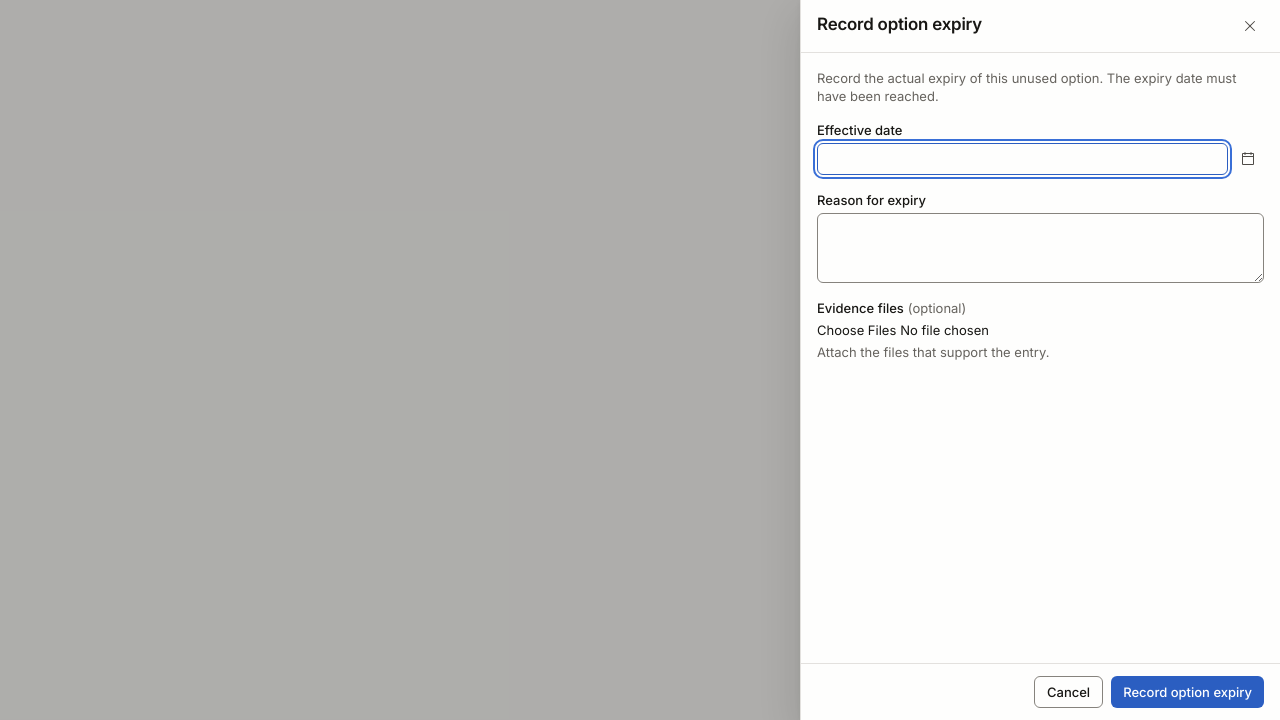
Scenario: keeps expiry inputs on a stale-stream refusal and sends no request without a reason
This screenshot has width=1280, height=720.
Step 1. Click the button "Record option expiry" → [1188, 692], box x1=1111 y1=676 x2=1264 y2=708
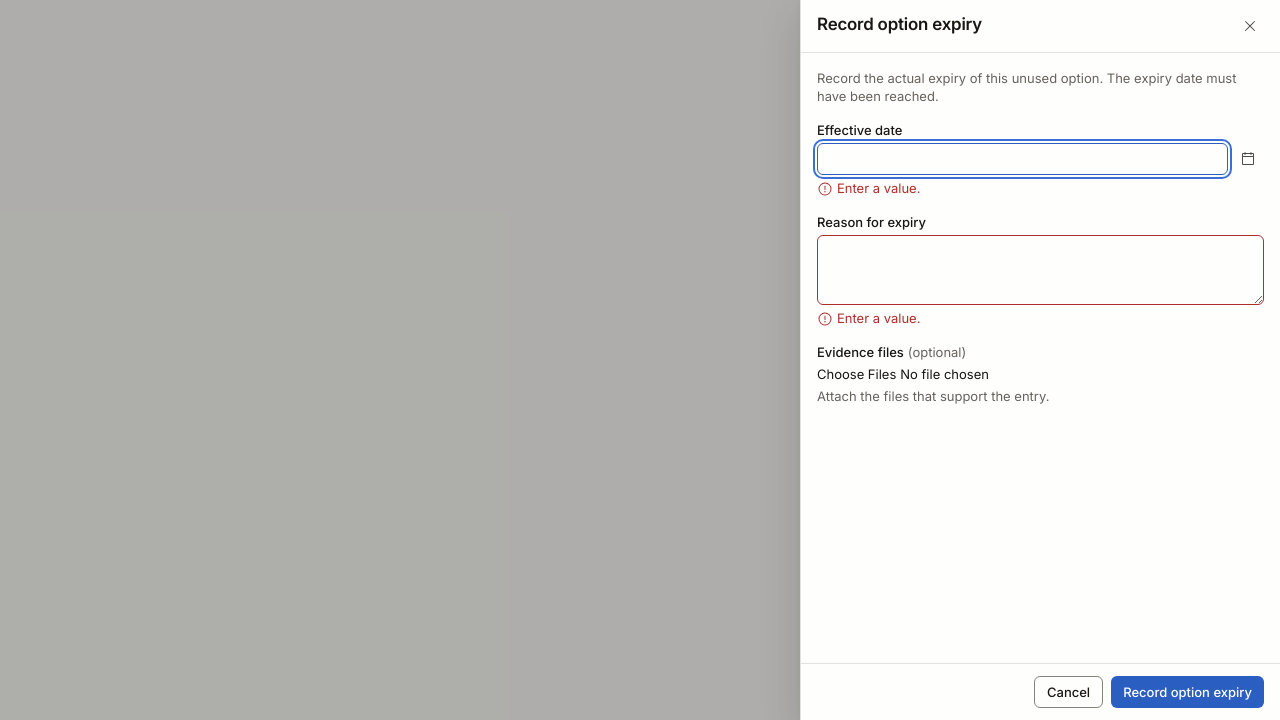
Step 2. Type "2026-09-12" into the field labelled "Effective date" → [1022, 159], box x1=817 y1=143 x2=1228 y2=175
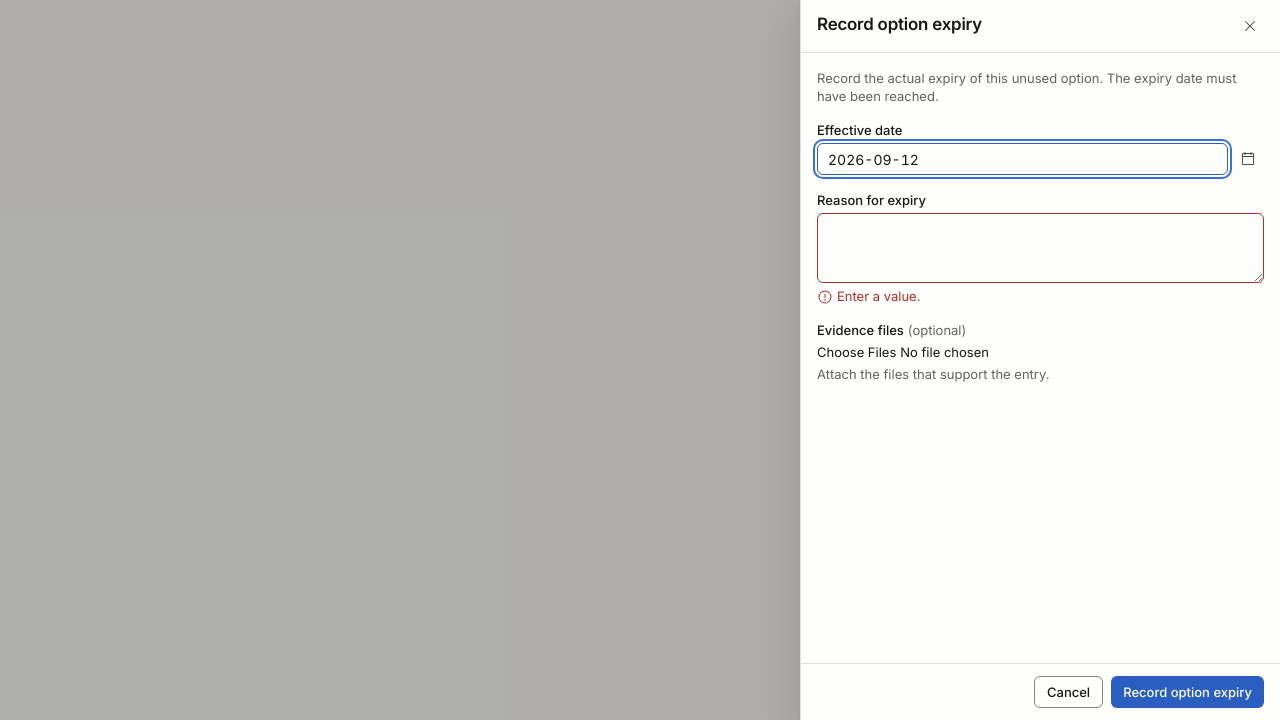
Step 3. Type "Unused option expired." into the text box labelled "Reason for expiry" → [1040, 248], box x1=817 y1=213 x2=1264 y2=283
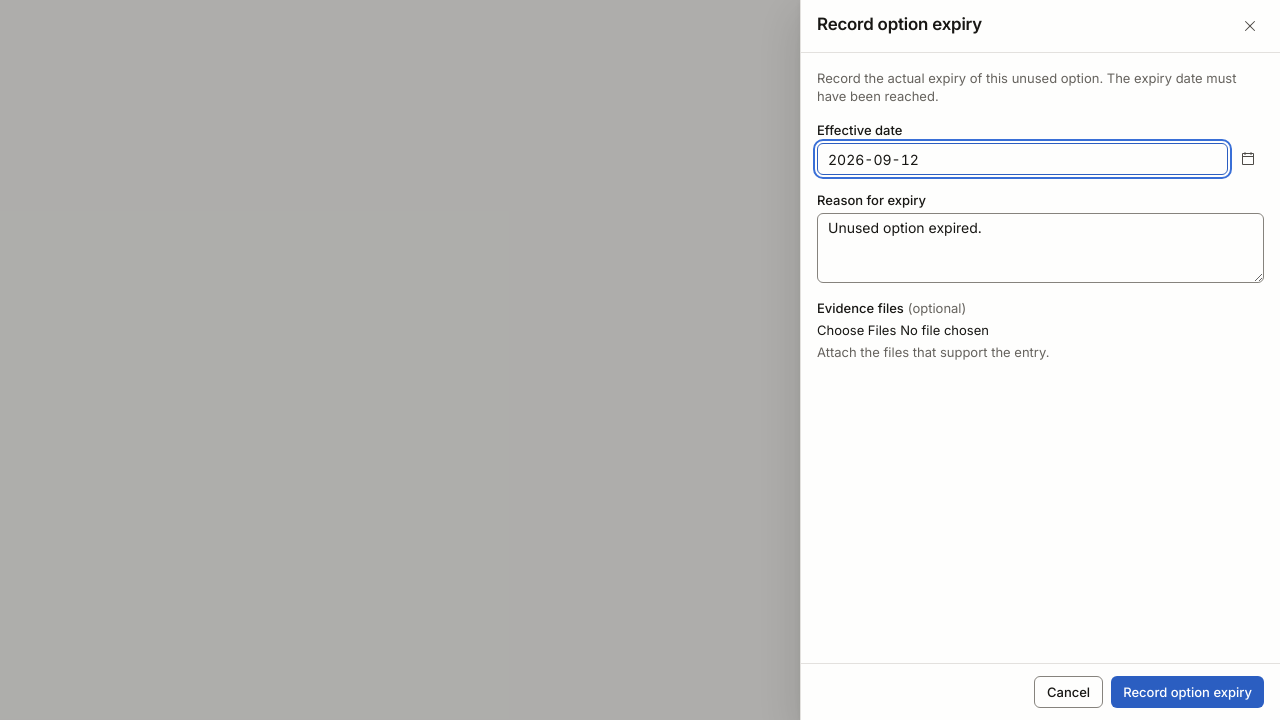
Step 4. Click the button "Record option expiry" → [1188, 692], box x1=1111 y1=676 x2=1264 y2=708
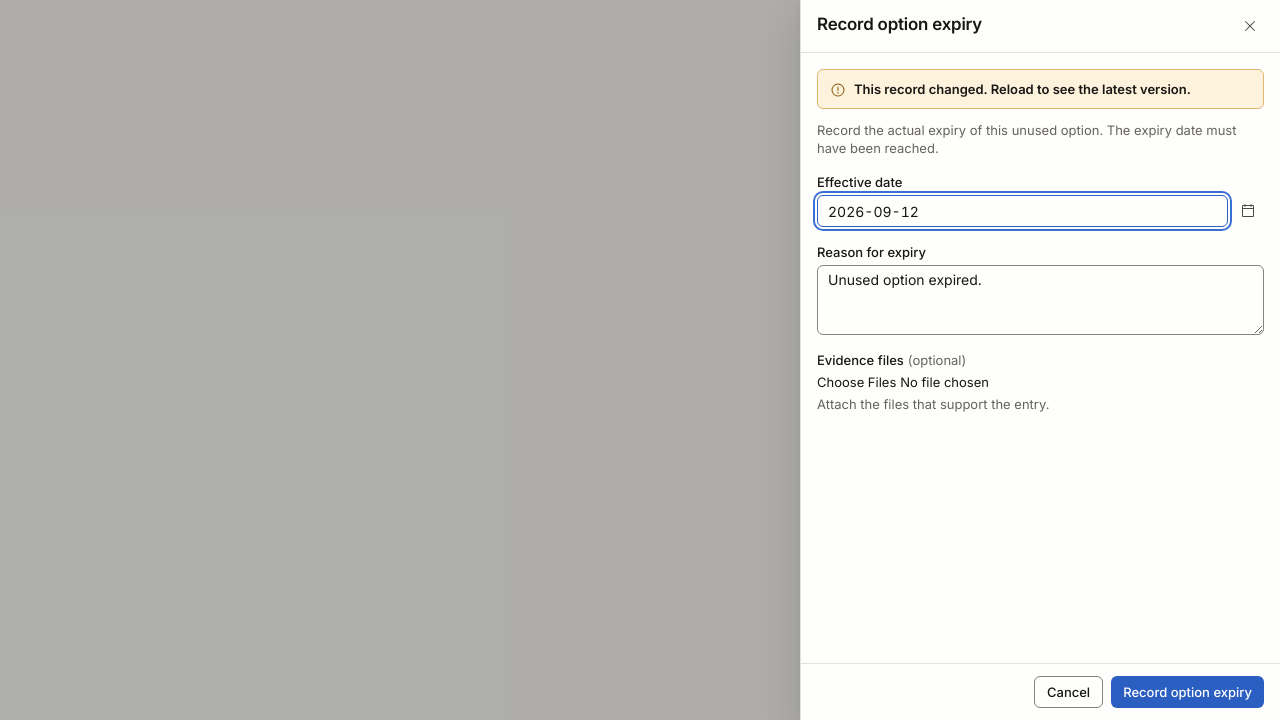
Now the heading "This record changed. Reload to see the latest version." is shown, box x1=854 y1=81 x2=1191 y2=97
